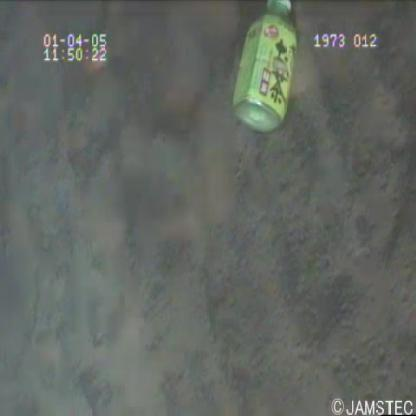Rác: (229, 1, 301, 141)
